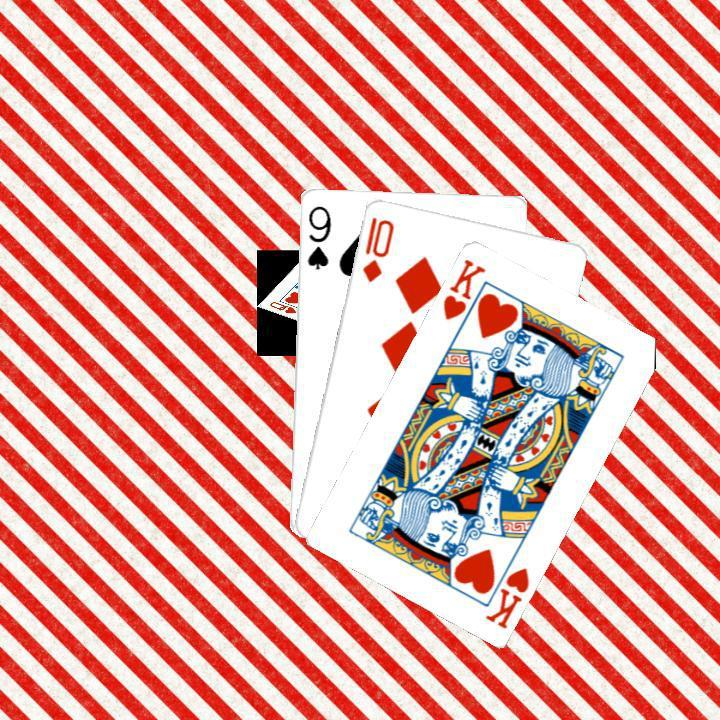10: (358, 212, 396, 284)
9: (302, 200, 333, 271)
K: (480, 562, 531, 630), (438, 254, 488, 322)
